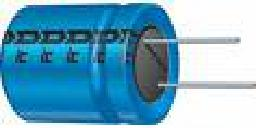Electrolytic-Capacitor: (1, 3, 251, 123)
